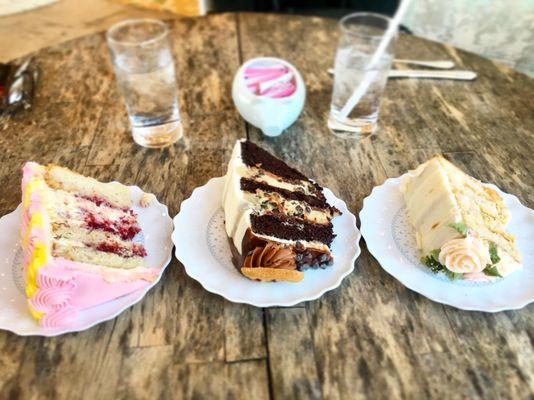soup: (18, 161, 173, 319)
